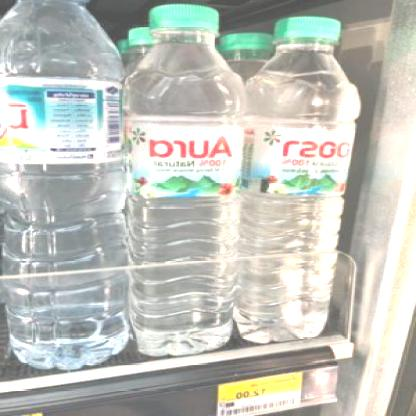bottle: (122, 1, 252, 355), (1, 0, 130, 356), (235, 11, 366, 346)
